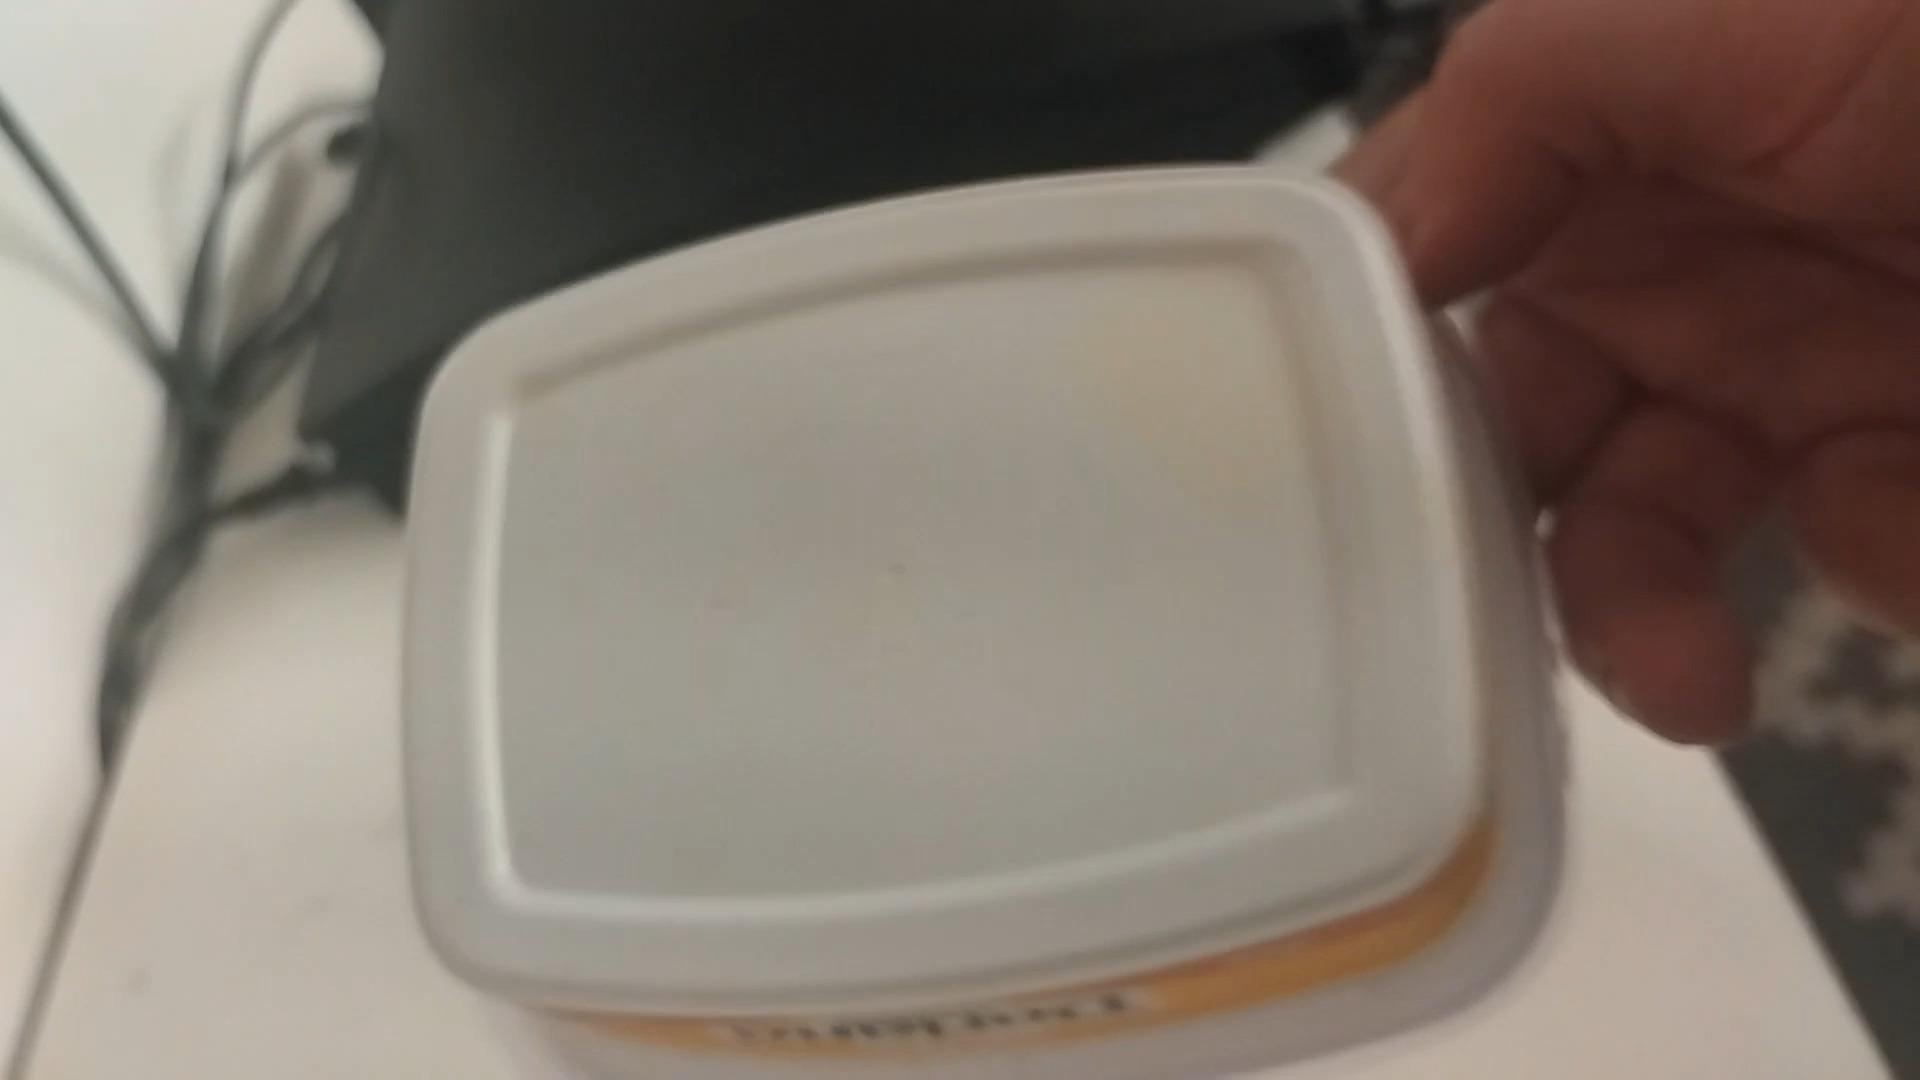butter: (397, 165, 1568, 1072)
